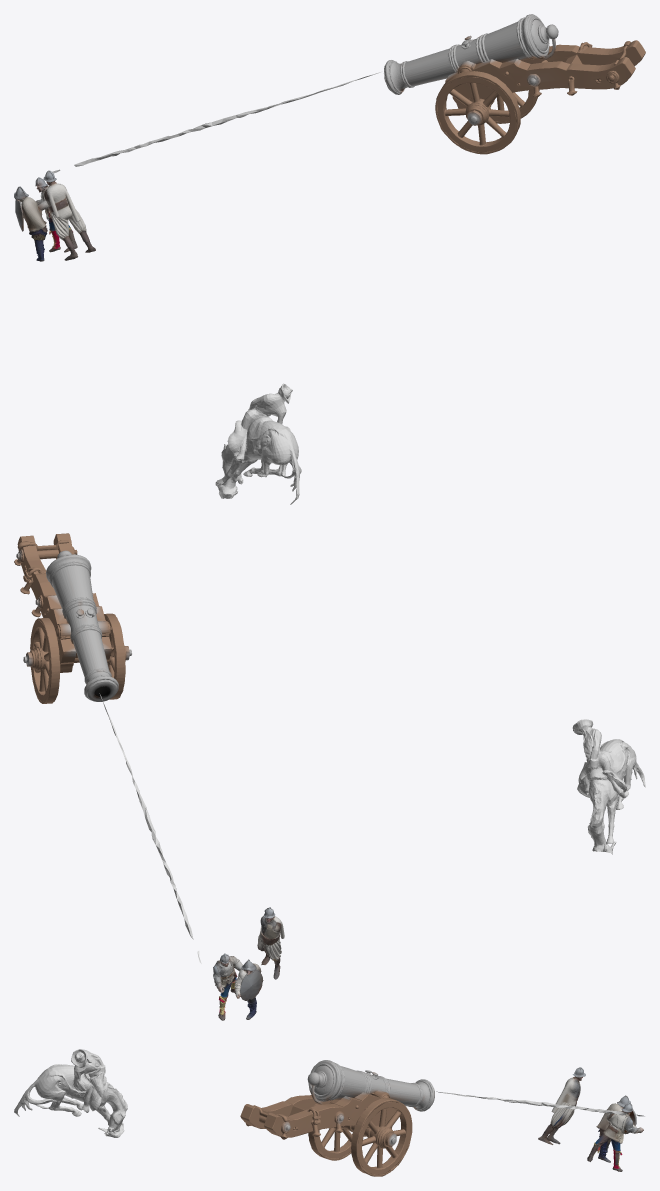
3 views of the same model, one above another, from view 1: azimuth 30°, elevation 25°; view 2: azimuth 150°, elevation 25°; view 3: azimuth 270°, elevation 25° (orthographic). The views are drawn at different scales.
Size of the model in its own units: 18.72 by 9.97 by 21.98.
